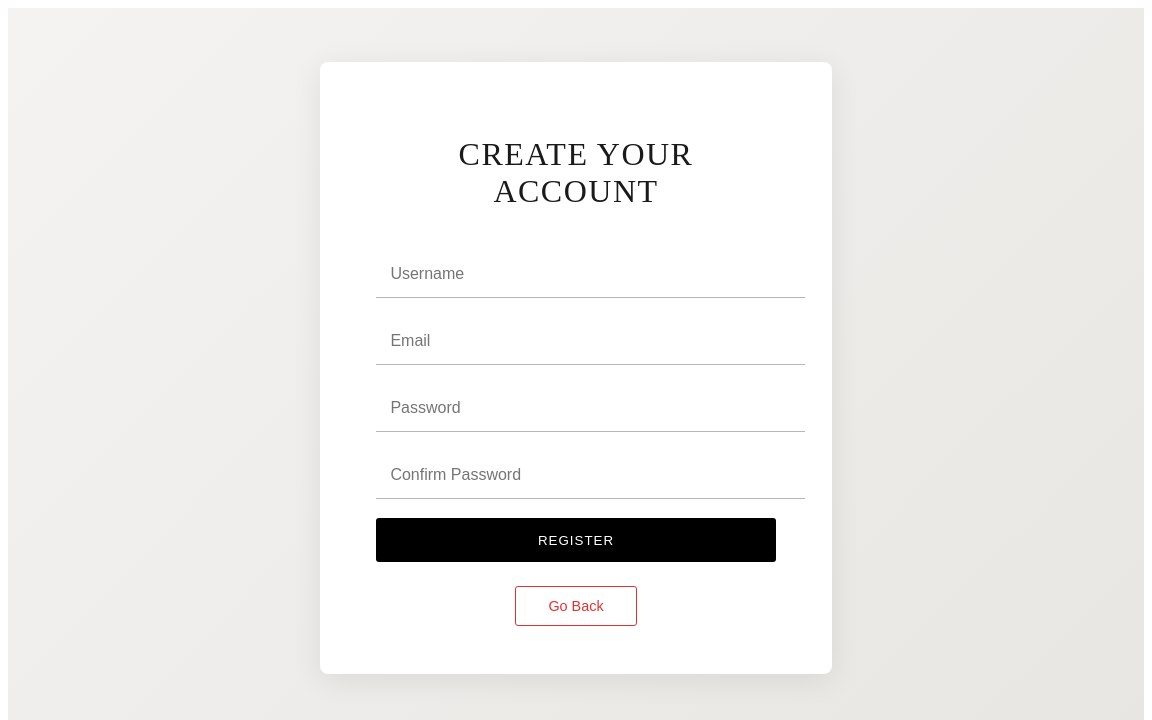
it: Register Form › Simulates a user inserting invalid password and getting error
In the field with placeholder "Username": (590, 274) left=376, top=250, right=805, bottom=298, type "testuser"
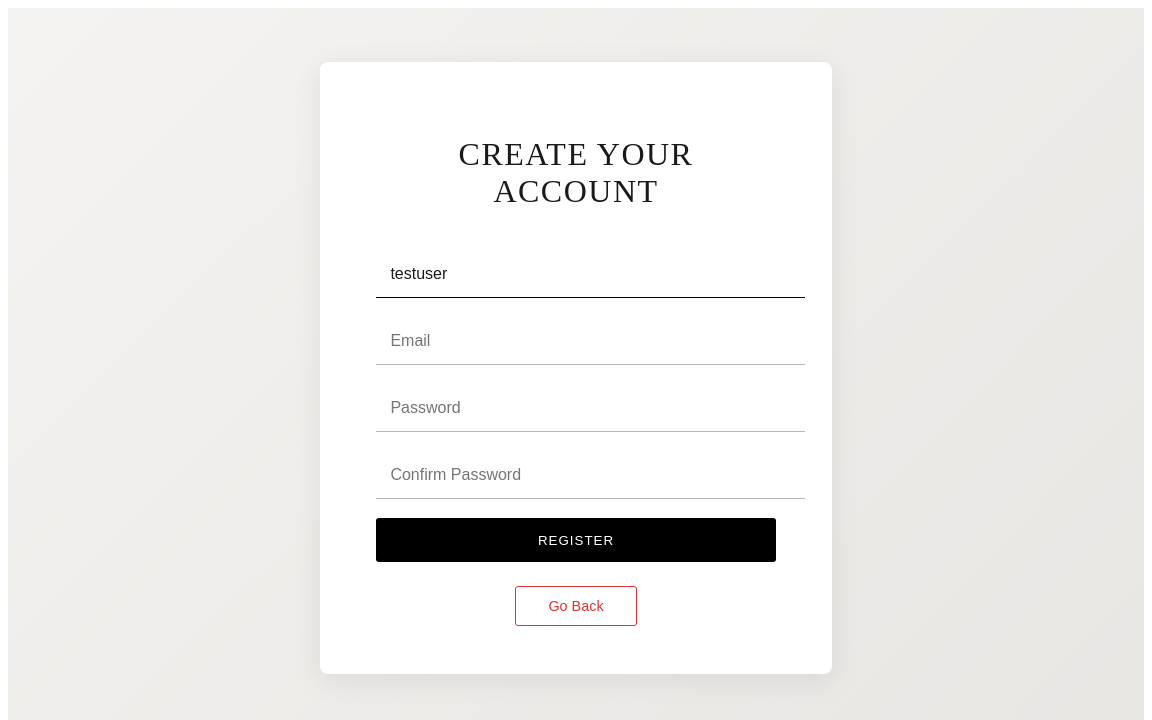
In the field with placeholder "Email": (590, 341) left=376, top=317, right=805, bottom=365, type "test@example.com"
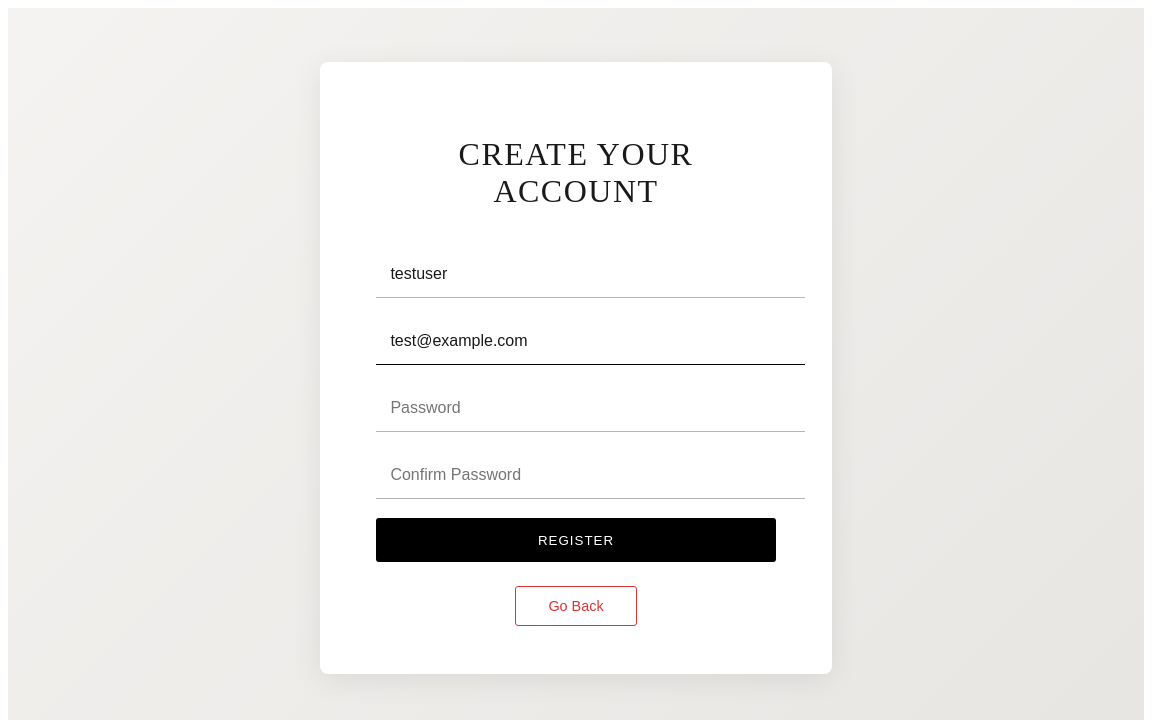
In the password field with placeholder "Password": (590, 408) left=376, top=384, right=805, bottom=432, type "mypassw"
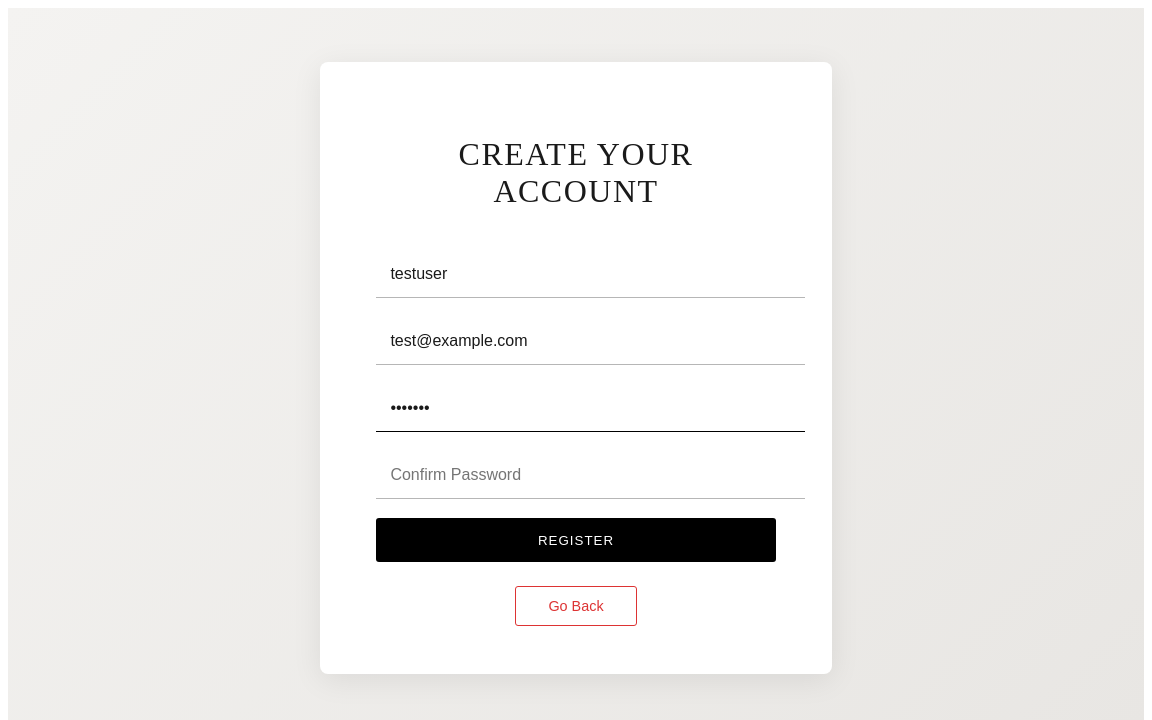
In the password field with placeholder "Confirm Password": (590, 475) left=376, top=451, right=805, bottom=499, type "mypassw"
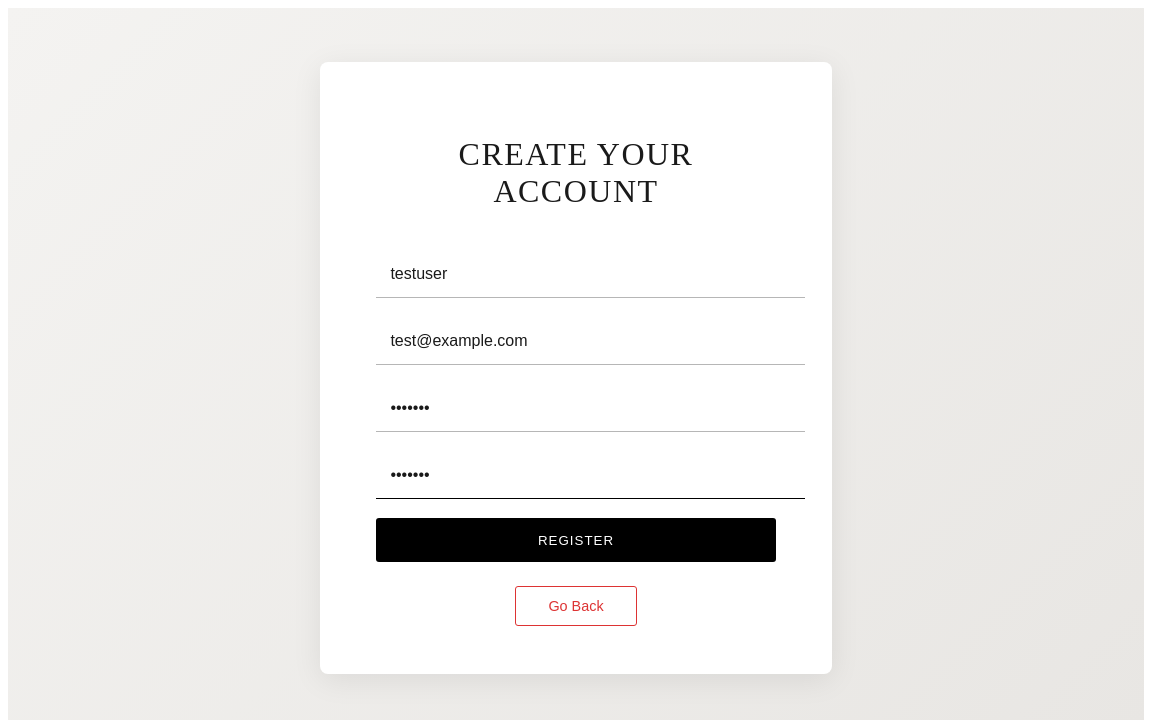
Click the button "Register": (576, 540) left=376, top=518, right=776, bottom=562
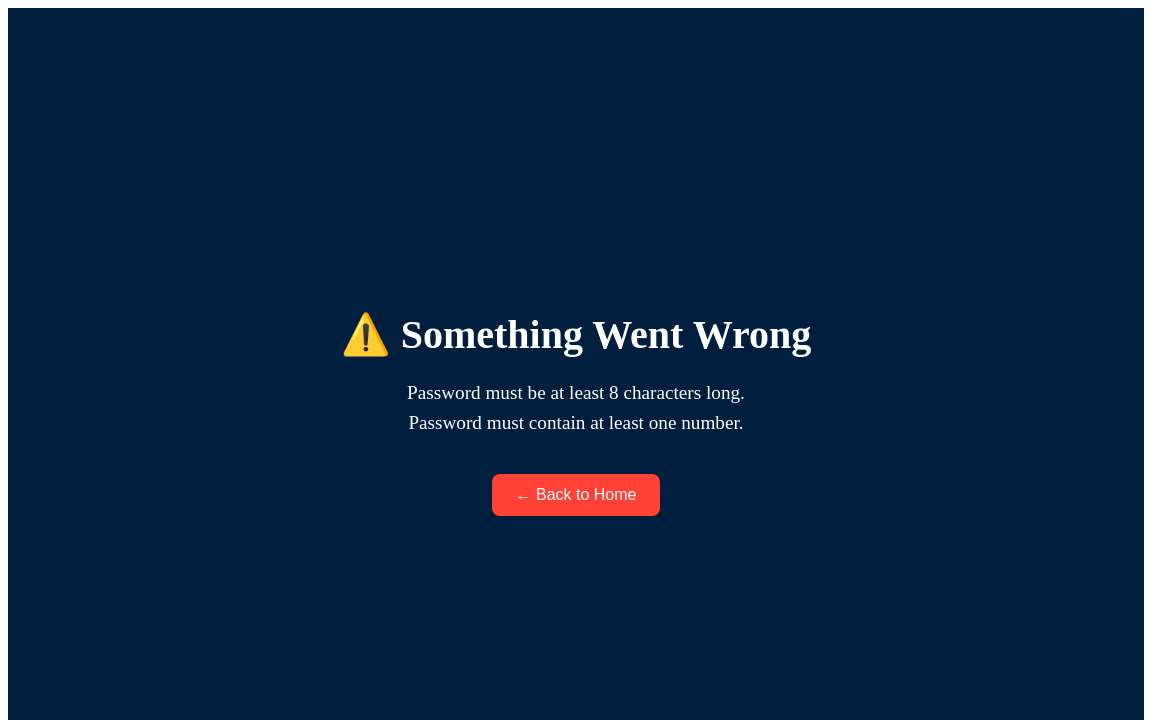
Now the text "Password must be at least 8 characters long." is shown, box left=407, top=382, right=745, bottom=404
Now the text "Password must contain at least one number." is shown, box left=407, top=412, right=745, bottom=434
